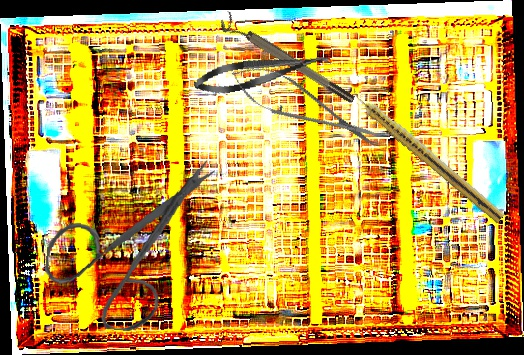Fixation Ring: (216, 10, 358, 112)
Handpiece: (346, 84, 508, 225)
Iris Scissors: (39, 144, 217, 339)
Micro Scissor: (223, 53, 388, 161), (191, 45, 333, 99)
